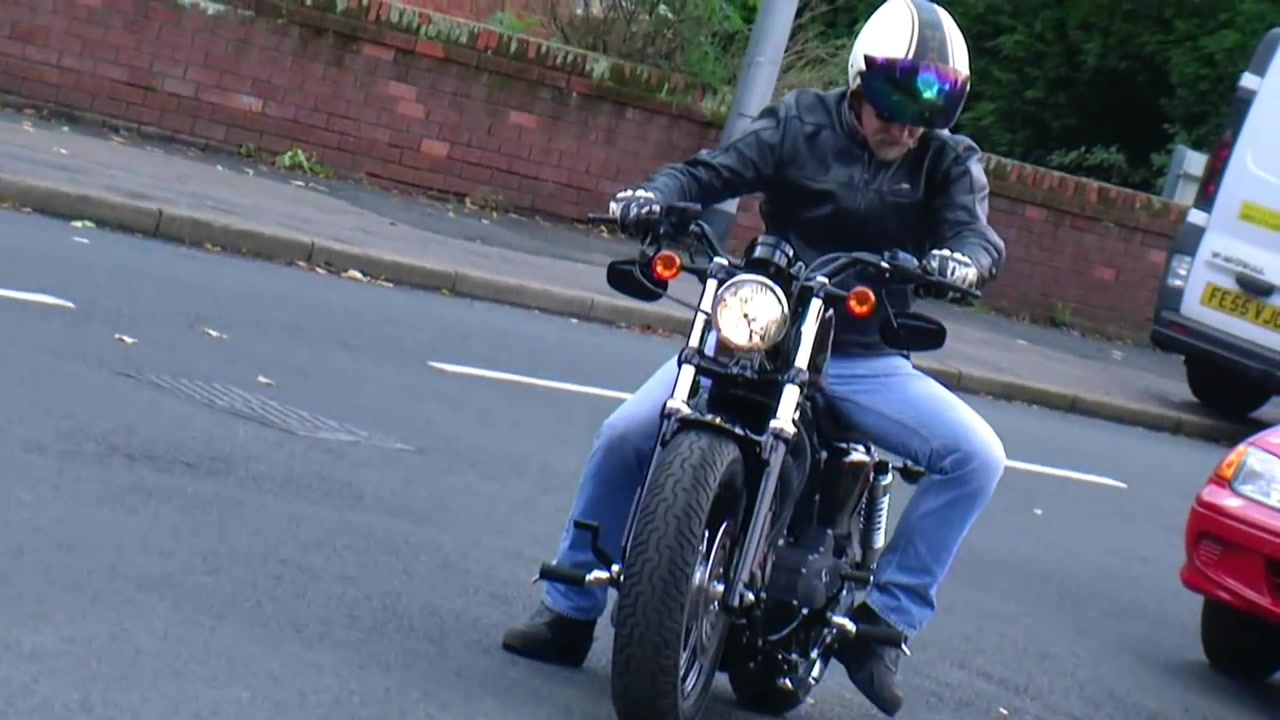motorbike: (536, 196, 977, 720)
